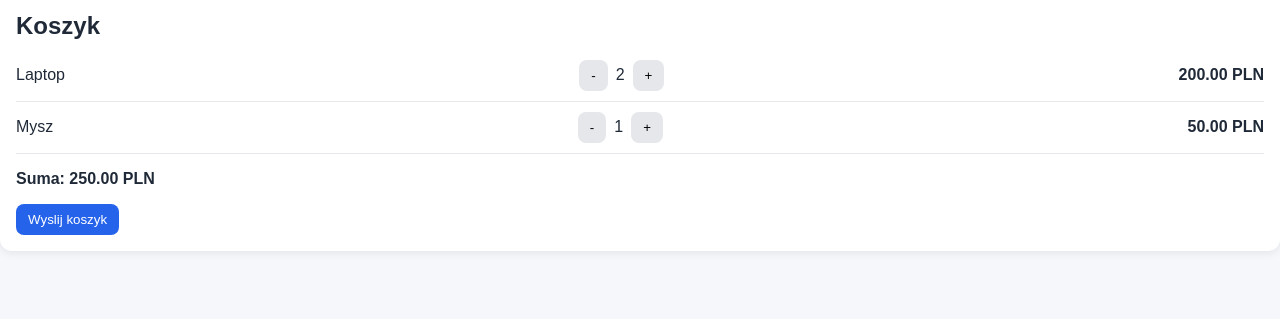
Test: Koszyk › wysyla koszyk do API
This screenshot has width=1280, height=319.
Click the button "Wyslij koszyk". click: (68, 219)
box: [16, 204, 119, 235]
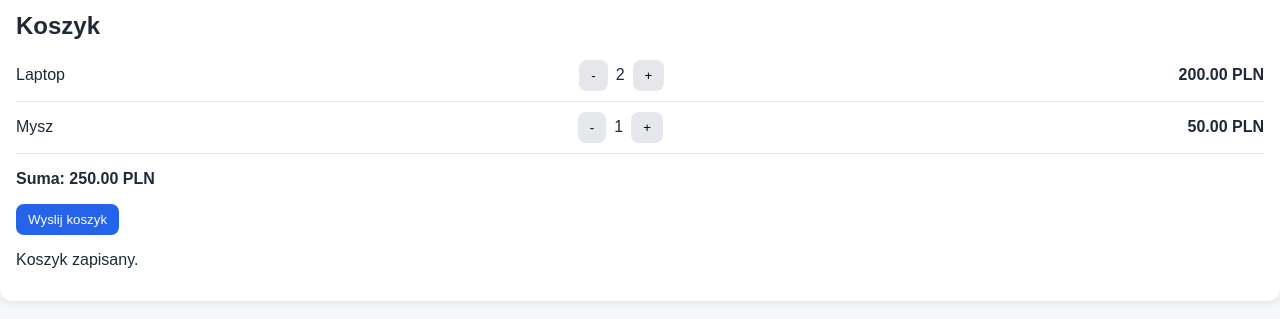
Result: the text "Koszyk zapisany." is shown at [16, 251, 138, 268]
